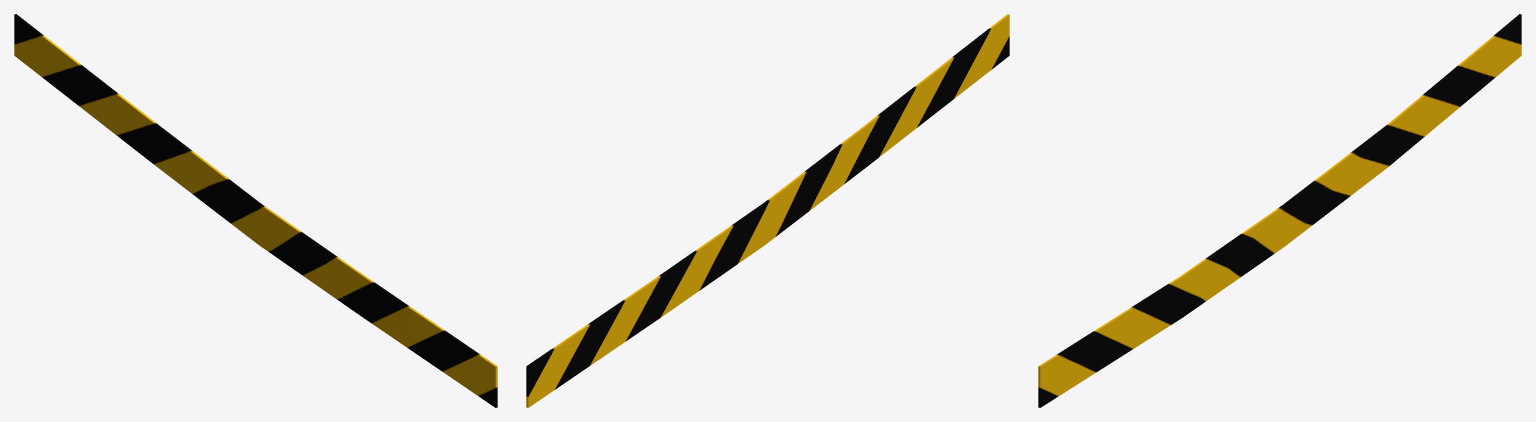
Rendered from Tape_3_2.glb.
3 views of the same model, side by side, from view 1: azimuth 30°, elevation 25°; view 2: azimuth 150°, elevation 25°; view 3: azimuth 330°, elevation 25° (orthographic).
Parts seen in each view (by area): view 1: Tape_3_2; view 2: Tape_3_2; view 3: Tape_3_2.
Part boxes in pixels (left/top/right/bottom): Tape_3_2: left=14, top=14, right=497, bottom=407; Tape_3_2: left=526, top=14, right=1009, bottom=407; Tape_3_2: left=1038, top=14, right=1521, bottom=407.
Size of the model in its own units: 0.0277 by 0.2529 by 4.
1 material, 1 textured.
